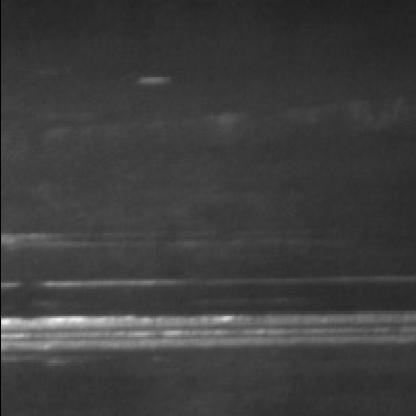scratches: (2, 308, 416, 364)
